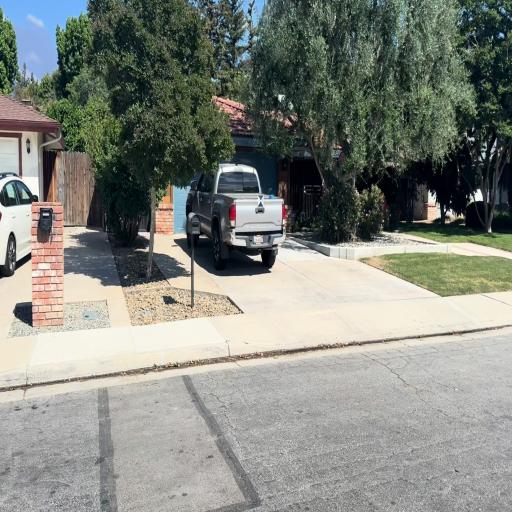target1: (258, 195, 264, 207)
